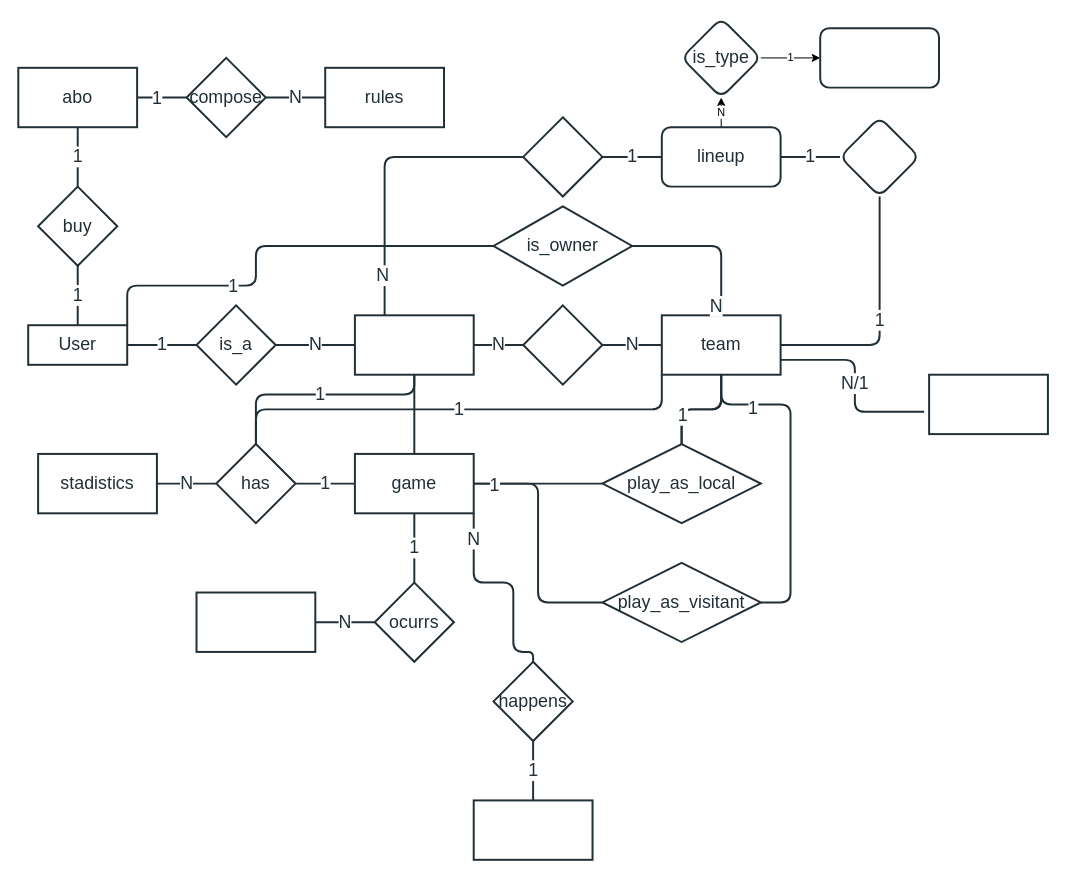
Image size: 1065x877. Some labels were removed from this diagram. Here are the shapes that lost their labels. From the top down, the centre of each, then its label:
At pixel 879 57: "schema".
At pixel 562 156: "is_in".
At pixel 879 156: "is_from".
At pixel 413 344: "Player".
At pixel 562 344: "play_in".
At pixel 988 404: "league".
At pixel 255 621: "event".
At pixel 532 829: "journey".
